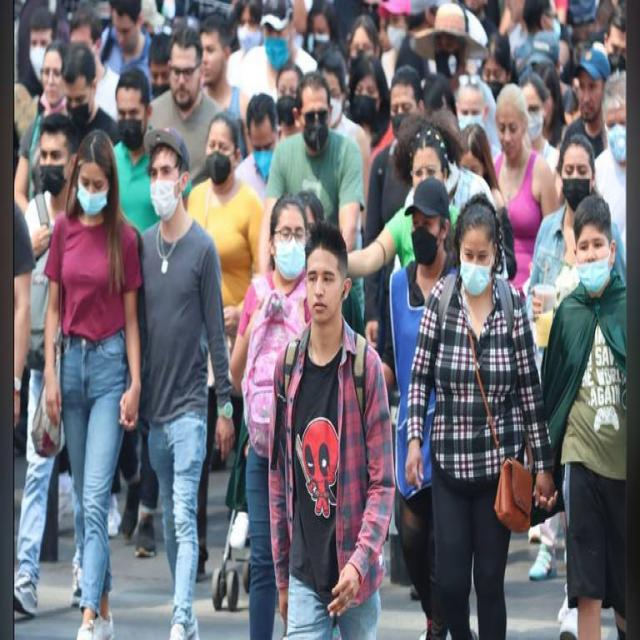adult: (405, 196, 546, 640), (268, 224, 392, 640), (45, 132, 140, 640), (536, 197, 640, 638), (140, 138, 230, 640), (228, 194, 320, 640), (16, 117, 83, 606), (392, 185, 462, 640), (272, 74, 361, 334), (187, 112, 265, 336), (529, 134, 621, 278), (493, 84, 556, 274), (146, 34, 228, 158), (369, 67, 429, 216), (13, 44, 64, 205), (111, 67, 158, 227), (242, 0, 316, 98), (590, 70, 627, 258), (59, 36, 118, 145), (560, 48, 610, 153), (233, 93, 280, 196), (199, 17, 241, 117)
